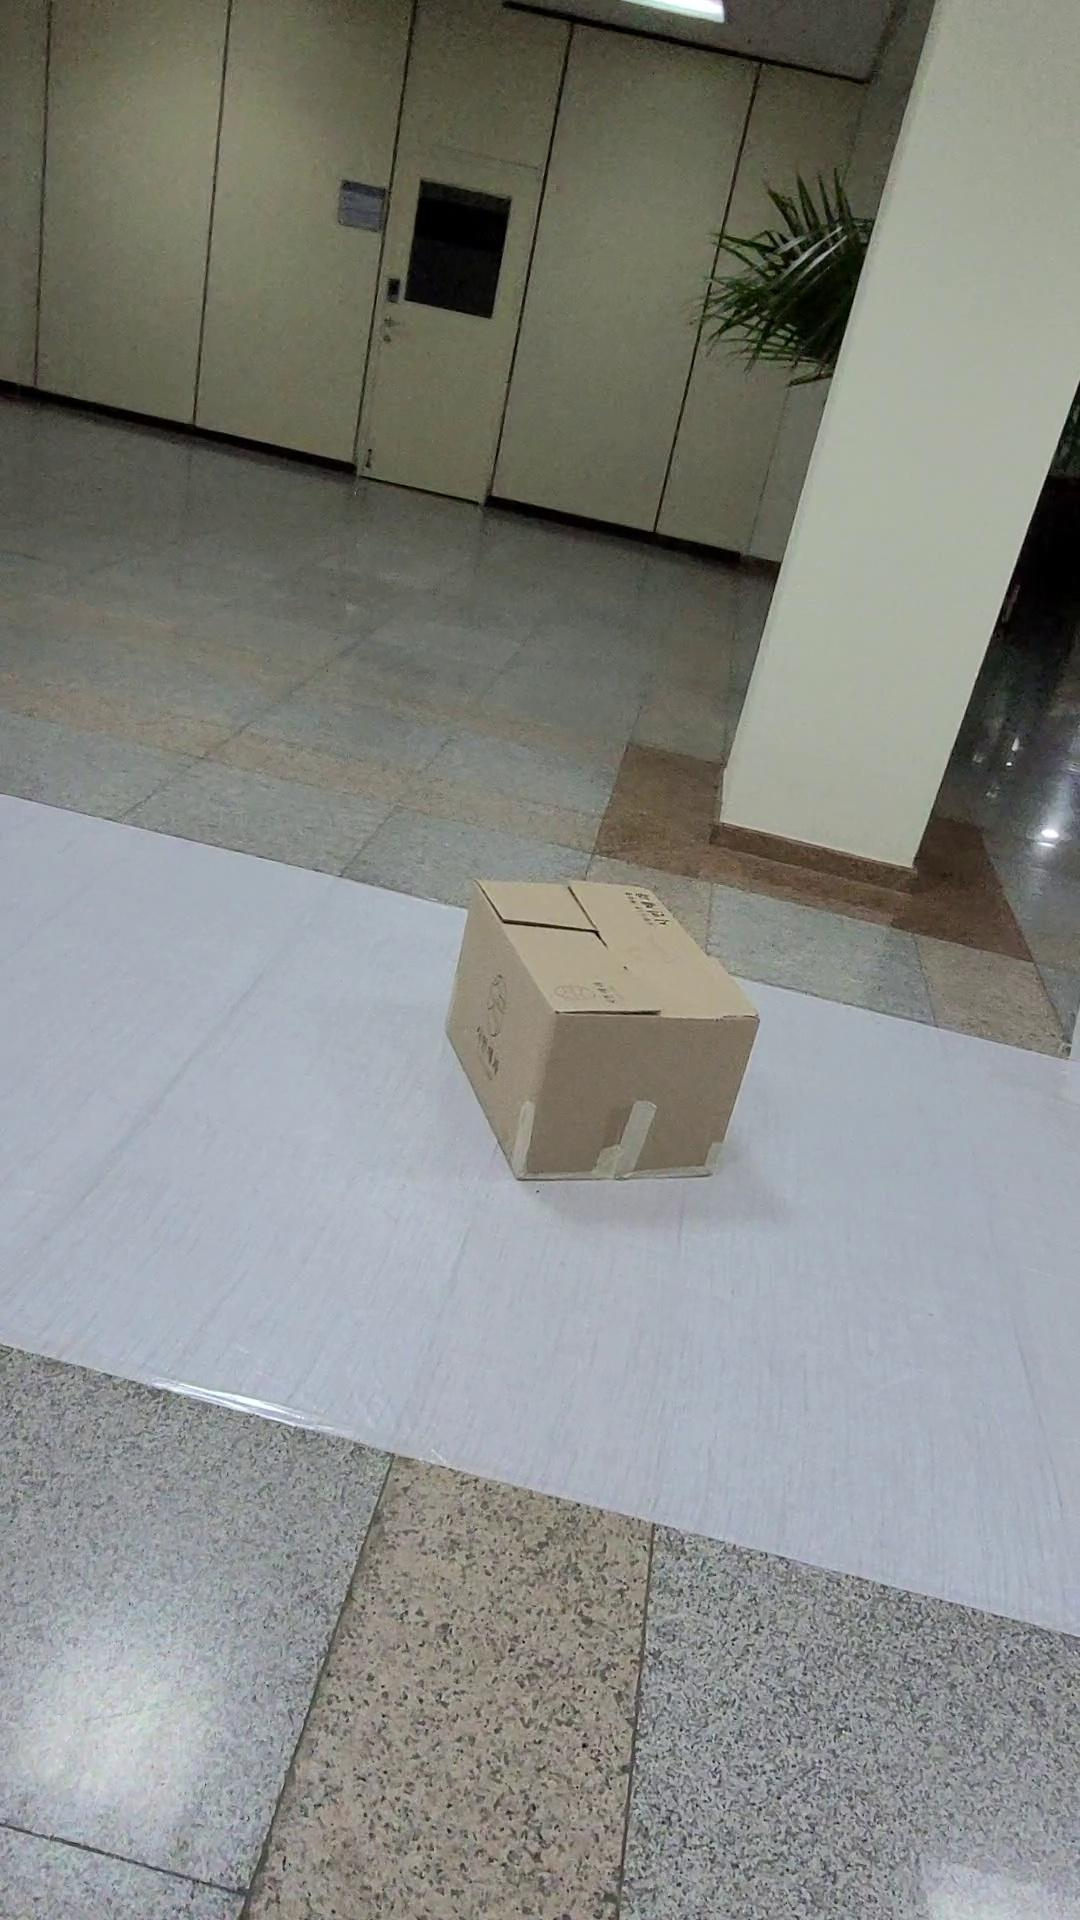Box: (401, 840, 812, 1240)
